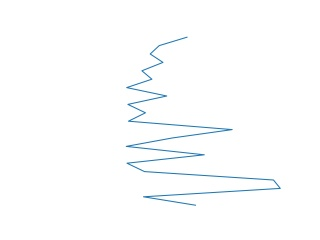crevasseRiverBedLagDeposit: (119, 34, 283, 211)
